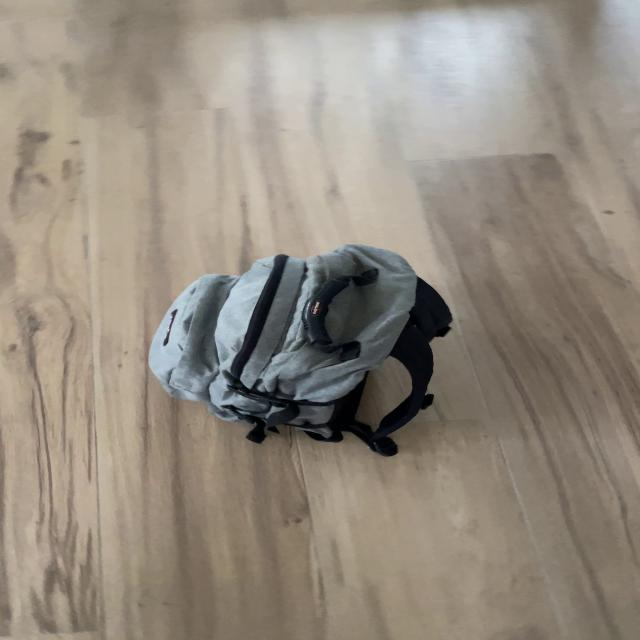backpack: (133, 237, 464, 456)
